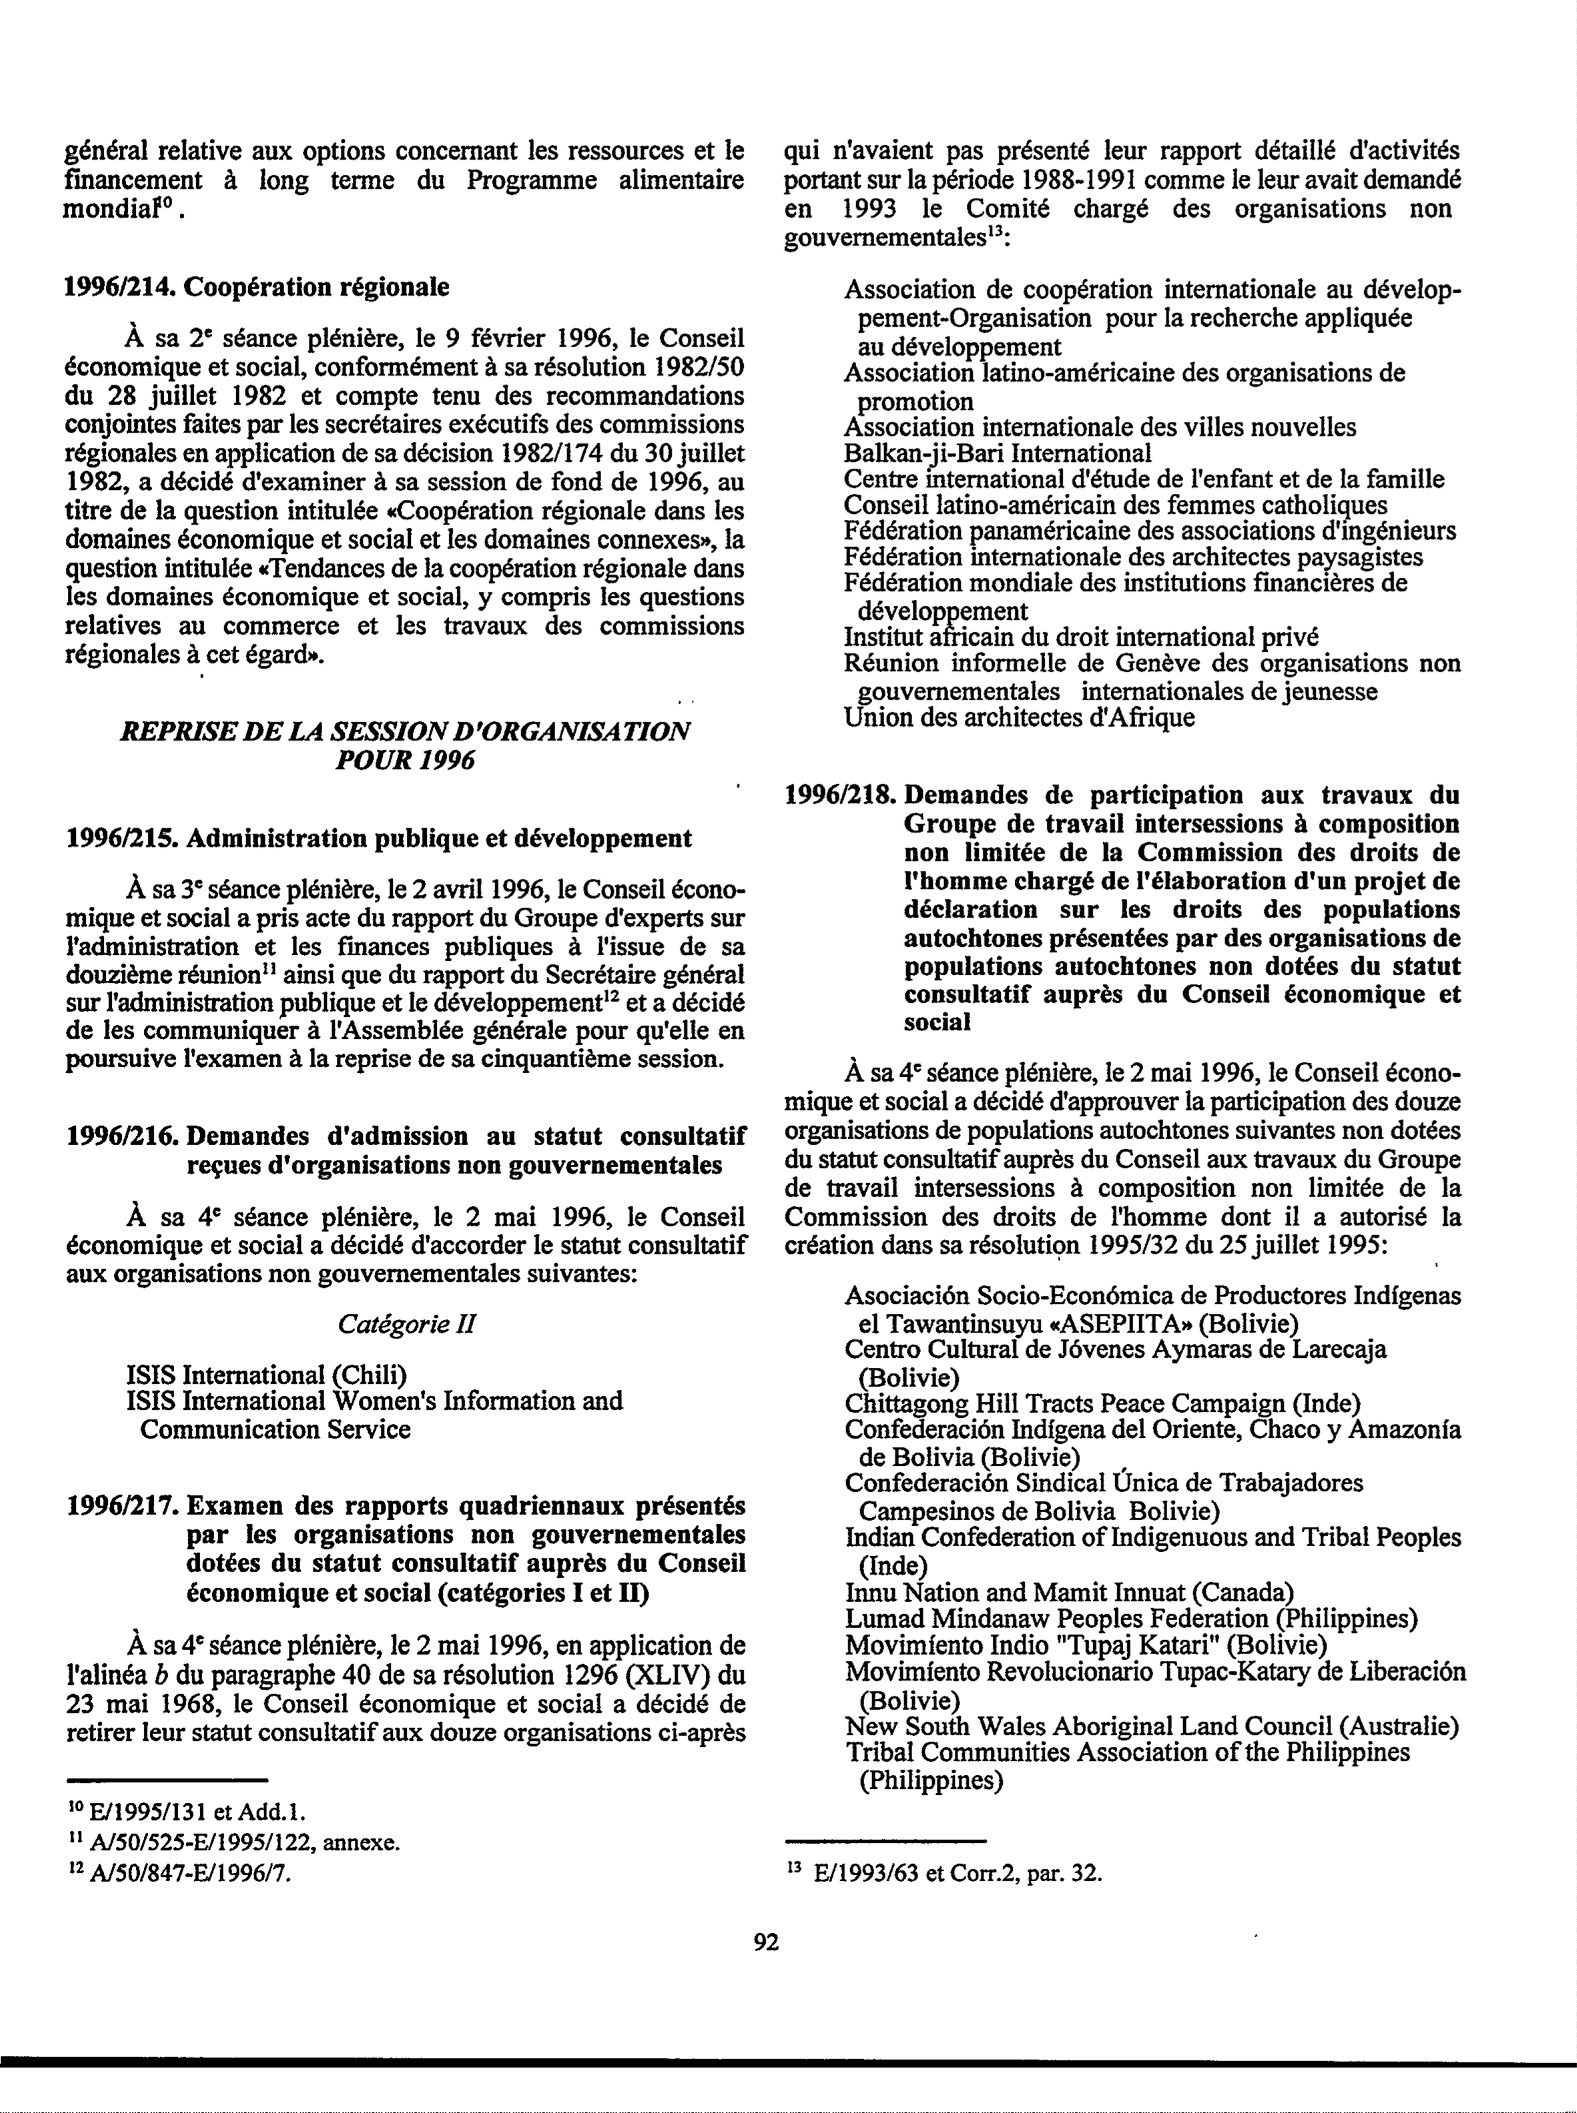MainZone-Continued: (772, 132, 1471, 258), (56, 132, 751, 230)
MainZone-Head: (773, 777, 1468, 1038), (64, 1489, 754, 1608), (63, 1116, 751, 1182), (108, 711, 704, 783), (61, 817, 700, 856), (58, 266, 464, 308), (321, 1304, 490, 1342)
MainZone-ListItem: (832, 272, 1471, 357), (839, 1525, 1465, 1580), (839, 651, 1462, 706), (839, 359, 1423, 414), (845, 1742, 1411, 1798), (834, 1283, 1467, 1333), (837, 1662, 1470, 1712), (840, 572, 1415, 627), (841, 1422, 1463, 1470), (117, 1389, 631, 1445), (832, 1338, 1391, 1387), (840, 1473, 1370, 1524), (840, 1716, 1462, 1744), (842, 1391, 1363, 1421), (841, 493, 1388, 520), (843, 546, 1427, 570), (837, 417, 1373, 443), (844, 1610, 1423, 1634), (840, 1632, 1336, 1659), (843, 623, 1323, 649), (841, 523, 1459, 543), (841, 1581, 1312, 1607), (842, 473, 1449, 491), (837, 705, 1207, 731), (119, 1361, 421, 1387), (840, 445, 1159, 469)
MainZone-P: (57, 318, 754, 673), (60, 871, 749, 1078), (777, 1053, 1467, 1259), (61, 1627, 755, 1750), (61, 1200, 751, 1291)
MarginTextZone-Notes: (783, 1850, 1113, 1895), (60, 1824, 406, 1856), (59, 1853, 303, 1891), (56, 1791, 308, 1824)
TitlePageZone: (745, 1924, 787, 1963)
